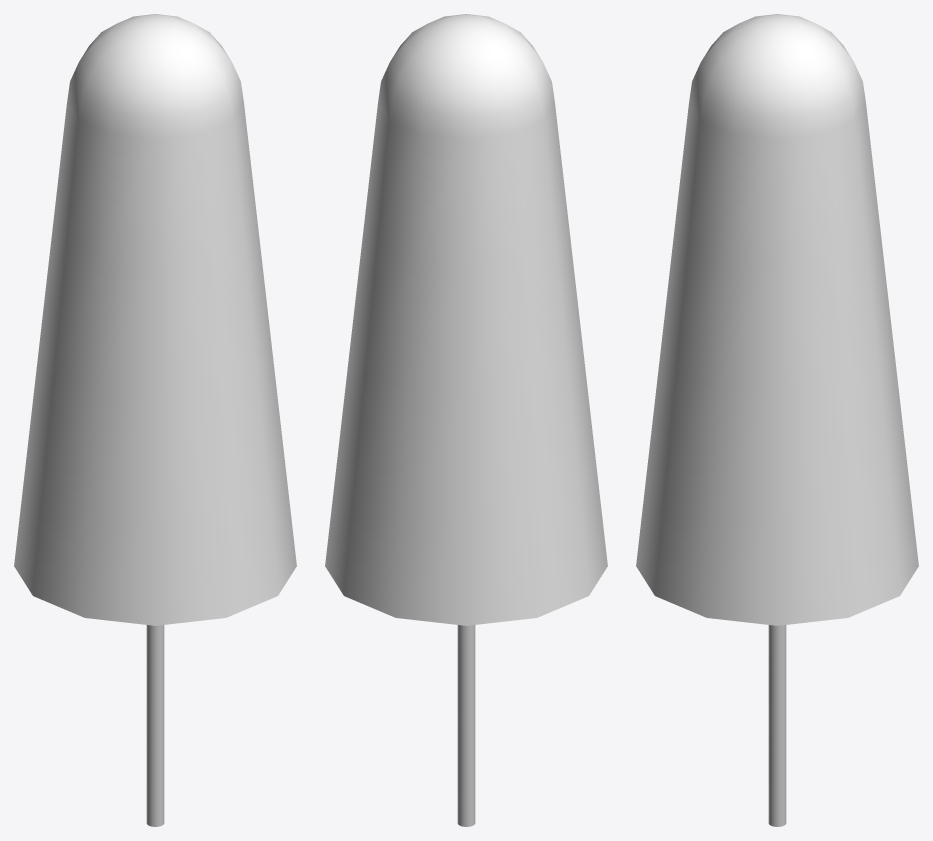
File: Popsicle.FBX
The picture shows the model from 3 angles, left to right: view 1: azimuth 30°, elevation 25°; view 2: azimuth 150°, elevation 25°; view 3: azimuth 270°, elevation 25°; orthographic projection.
Visible parts, largest first — view 1: Capsule001, Cylinder001; view 2: Capsule001, Cylinder001; view 3: Capsule001, Cylinder001.
Part boxes in pixels (x1,y1,x2,y2): Capsule001: [14, 14, 296, 625]; Cylinder001: [146, 625, 164, 826]; Capsule001: [325, 14, 607, 625]; Cylinder001: [457, 625, 475, 826]; Capsule001: [636, 14, 918, 625]; Cylinder001: [768, 625, 786, 826].
Size of the model in its own units: 6.4 by 20 by 6.4.
1 material, 1 textured.
